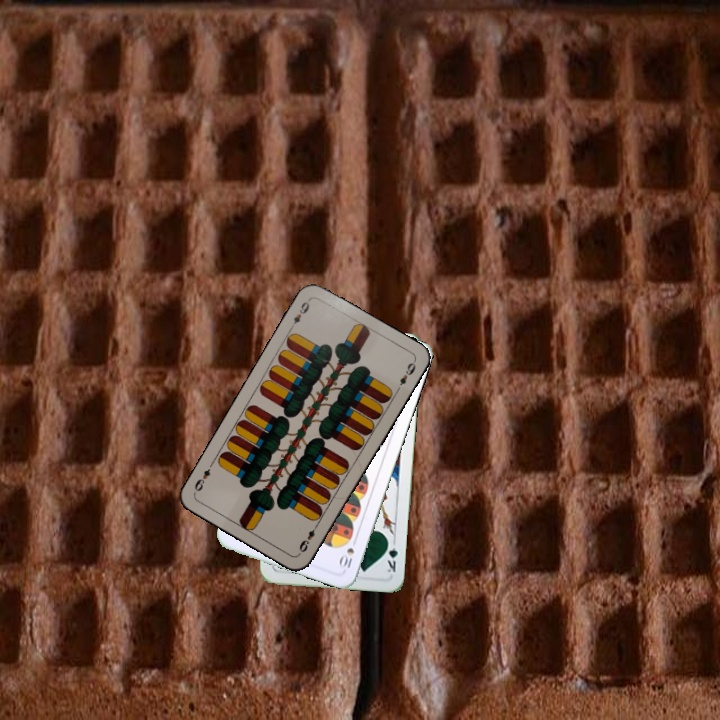E9: (295, 519, 321, 555), (286, 296, 312, 332)
GK: (382, 535, 400, 575)
S10: (336, 534, 358, 571)
